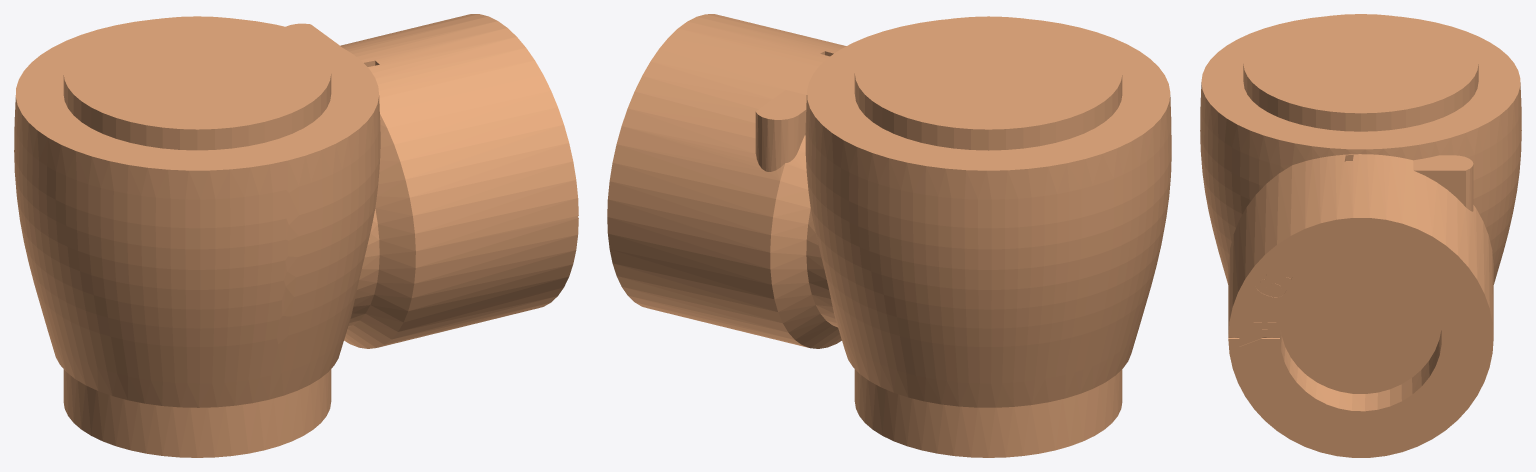
3 renders of one model, left to right at view 1: azimuth 30°, elevation 25°; view 2: azimuth 150°, elevation 25°; view 3: azimuth 270°, elevation 25°, orthographic. The views are drawn at different scales.
Parts seen in each view (by area): view 1: /Link_5/Link_5-mesh/0; view 2: /Link_5/Link_5-mesh/0; view 3: /Link_5/Link_5-mesh/0.
Part boxes in pixels (x1,y1,x2,y2): /Link_5/Link_5-mesh/0: [14, 14, 578, 457]; /Link_5/Link_5-mesh/0: [607, 14, 1171, 457]; /Link_5/Link_5-mesh/0: [1200, 14, 1521, 457].
Bounding box in the file's own units: 0.1162 × 0.0785 × 0.0794.
